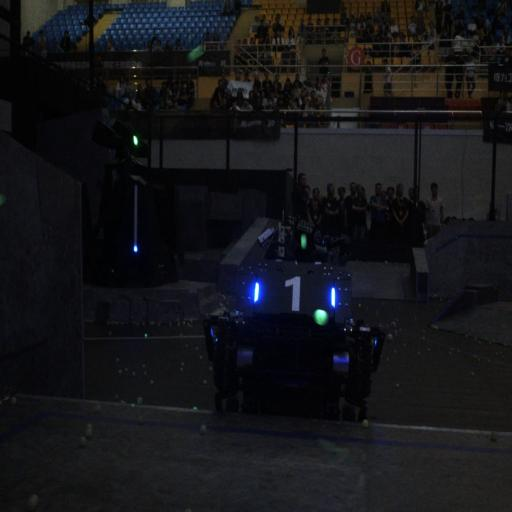target: (251, 258, 339, 320)
